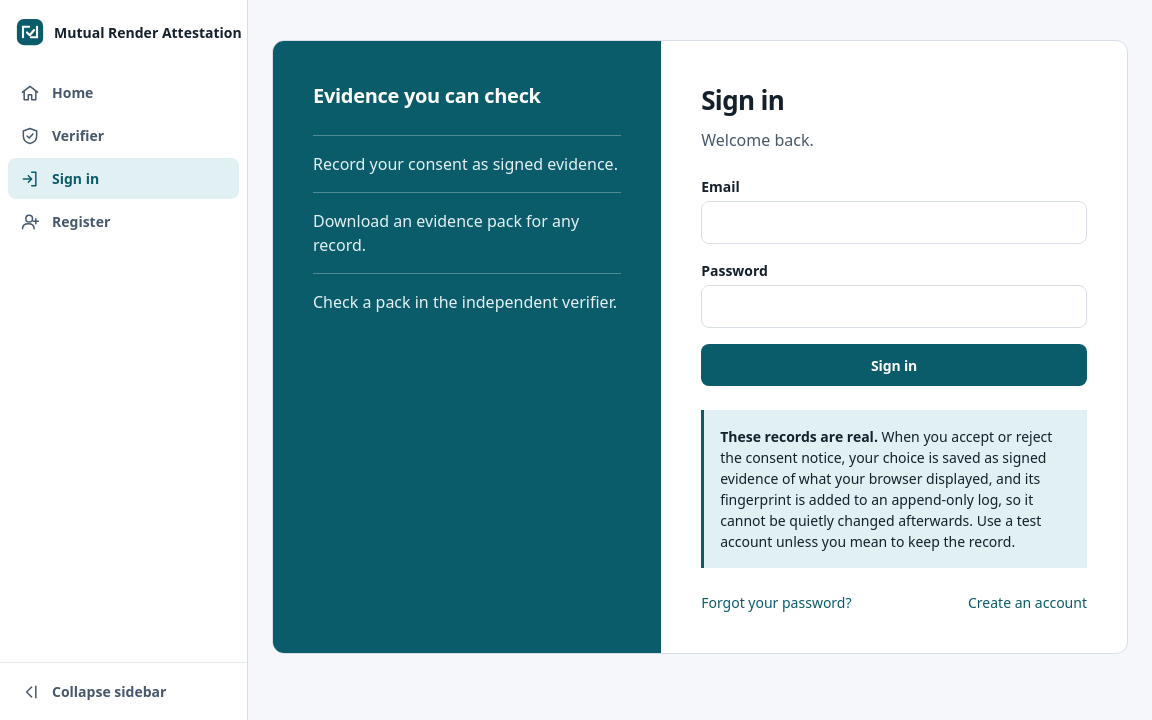
Login page › shows an error state for status 429
The image size is (1152, 720).
Expected: the button "Sign in" is enabled, [701,344,1087,386]
In the field labelled "Email": (894, 222) [701,201,1087,244], type "alice@example.com"
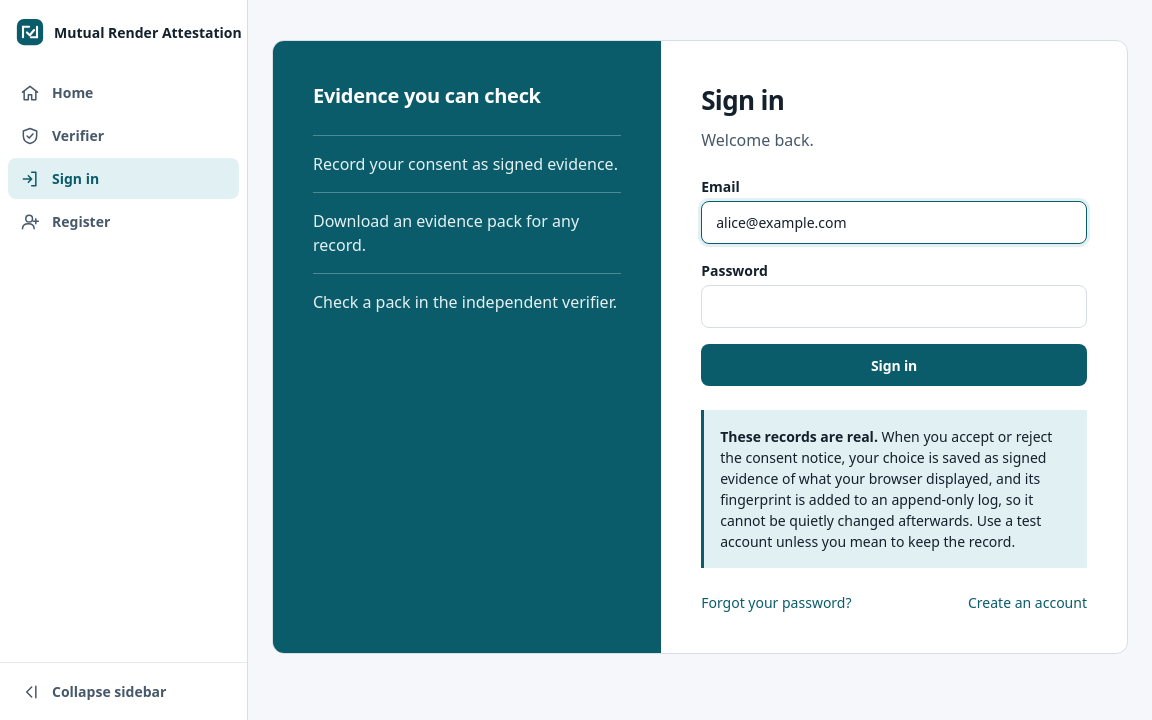
In the password field labelled "Password": (894, 306) [701,285,1087,328], type "secret-password-1"
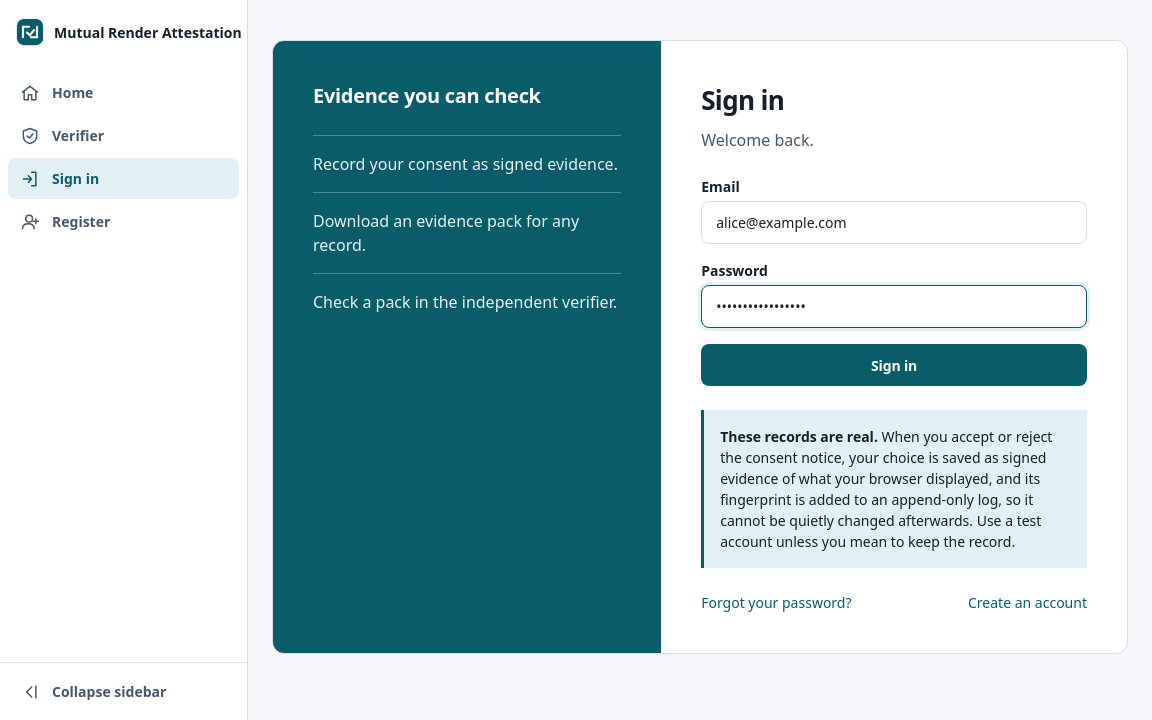
Click the button "Sign in": (894, 365) [701,344,1087,386]
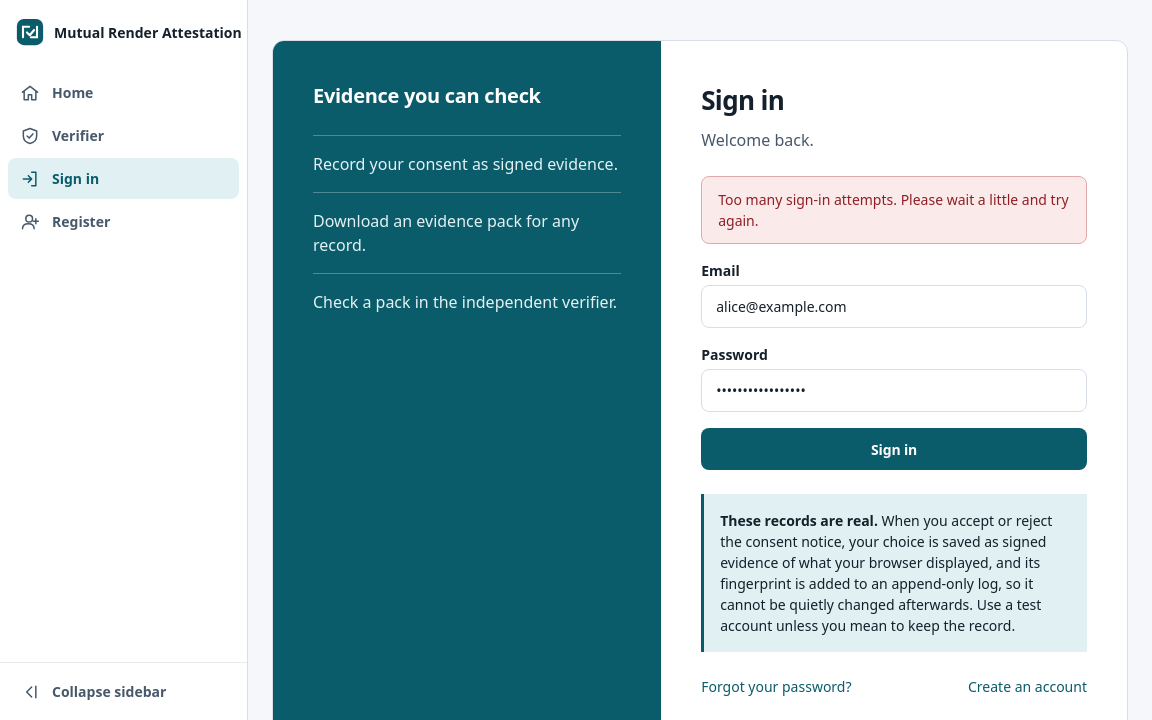
Expected: the text "Too many sign-in attempts. Please wait a little and try again." is shown, [701,176,1087,244]
